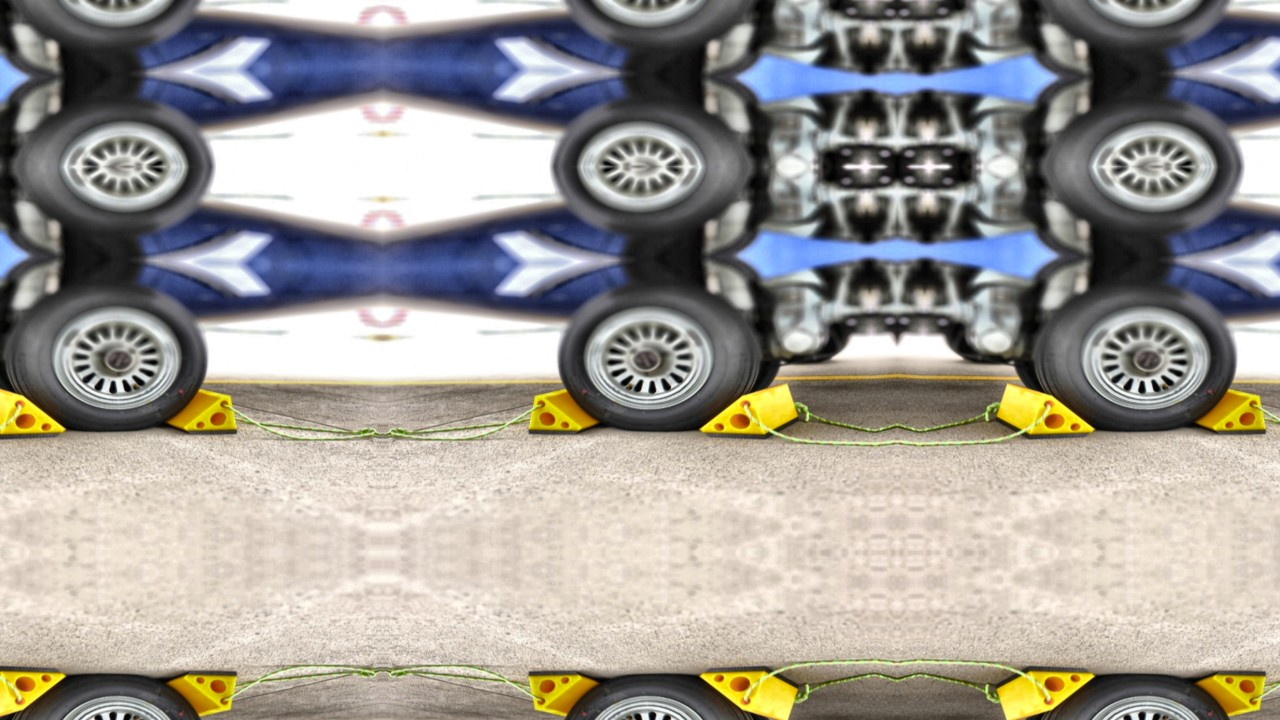chock: (697, 383, 799, 443), (996, 383, 1098, 443), (697, 663, 799, 720), (996, 663, 1098, 720), (0, 383, 68, 443), (0, 663, 68, 720), (161, 388, 240, 437), (525, 388, 604, 437), (1191, 388, 1270, 437), (161, 669, 240, 718), (525, 669, 604, 718), (1191, 669, 1270, 718)
wheel: (5, 282, 208, 436), (557, 282, 760, 436), (1035, 282, 1238, 436), (12, 166, 216, 237), (549, 166, 753, 237), (1042, 166, 1246, 237), (12, 96, 216, 166), (549, 96, 753, 166), (1042, 96, 1246, 166), (5, 0, 208, 51), (557, 0, 760, 51), (1035, 0, 1238, 51), (5, 670, 208, 720), (557, 670, 760, 720), (1035, 670, 1238, 720)
